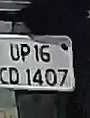0: (42, 66, 59, 88)
1: (20, 67, 34, 86), (31, 44, 41, 65)
4: (32, 67, 46, 90)
6: (39, 43, 53, 65)
7: (57, 66, 71, 89)
C: (1, 64, 9, 87)
D: (8, 66, 22, 87)
P: (20, 42, 31, 63)
U: (8, 42, 22, 64)
